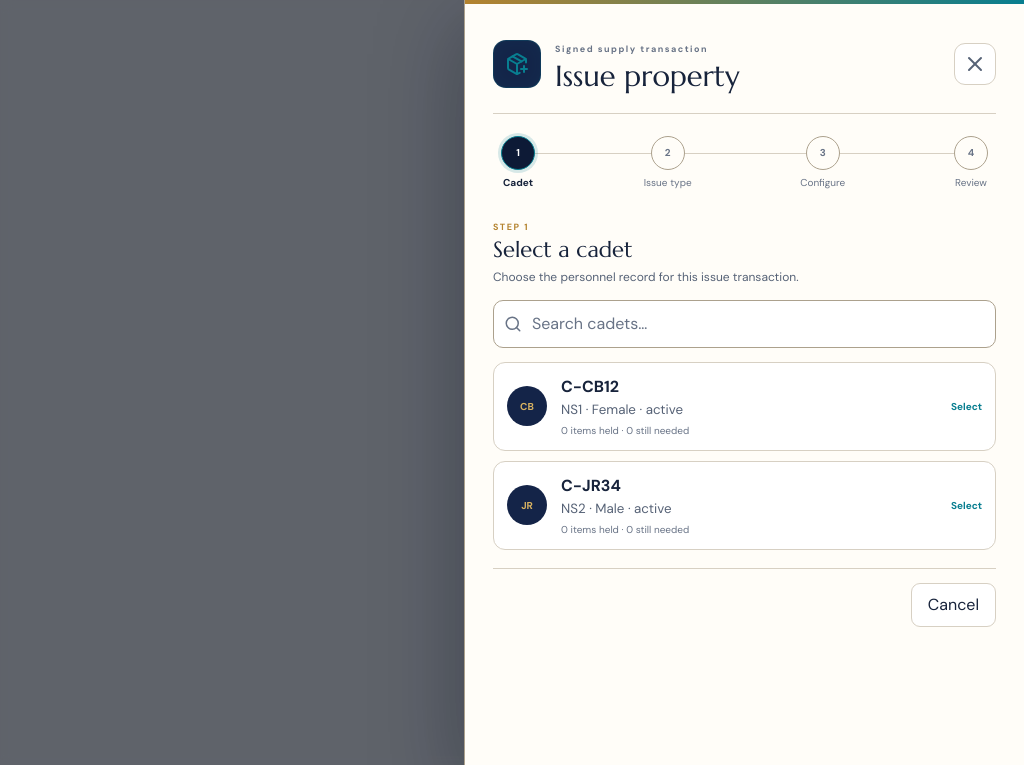
it: SupplyWorkflow with cadet IDs and catalog bundle lines › searches cadets by name or code but shows only the cadet ID
Expected: the button "C-CB12" is shown, 493,362 -> 996,451
Type "bennett" into the field labelled "Search cadets".
click(758, 324); type("bennett")  # box 530,301 -> 985,346
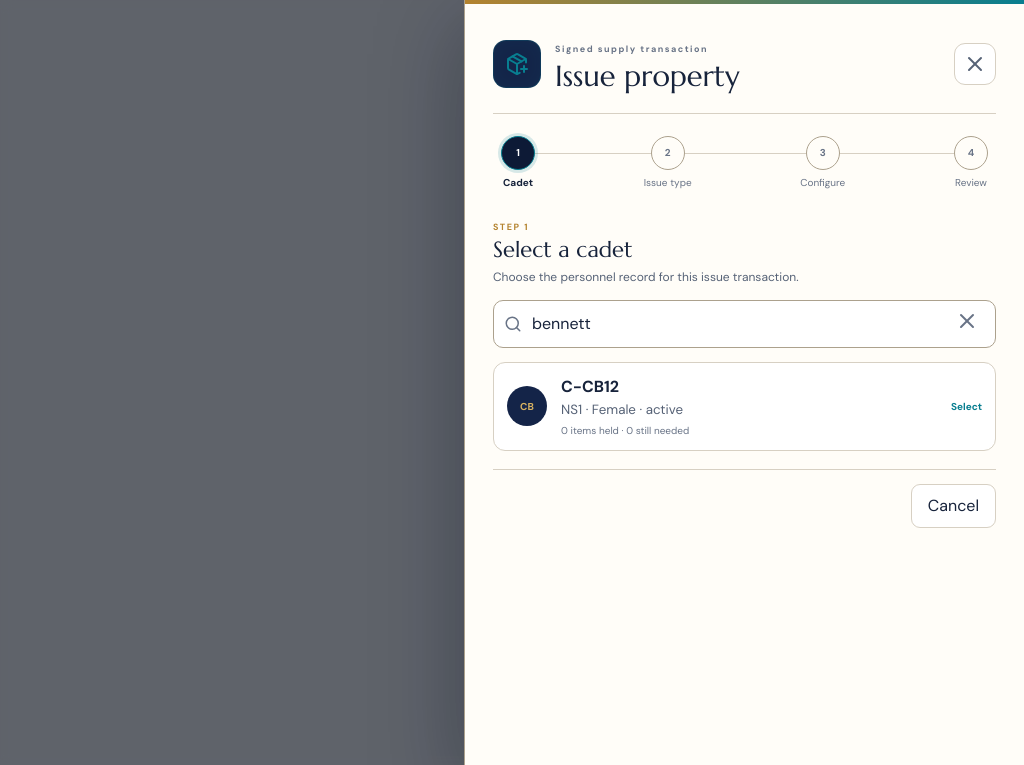
Result: the button "C-JR34" is gone
Click the button "C-CB12".
click(527, 406)  # box 493,362 -> 996,451
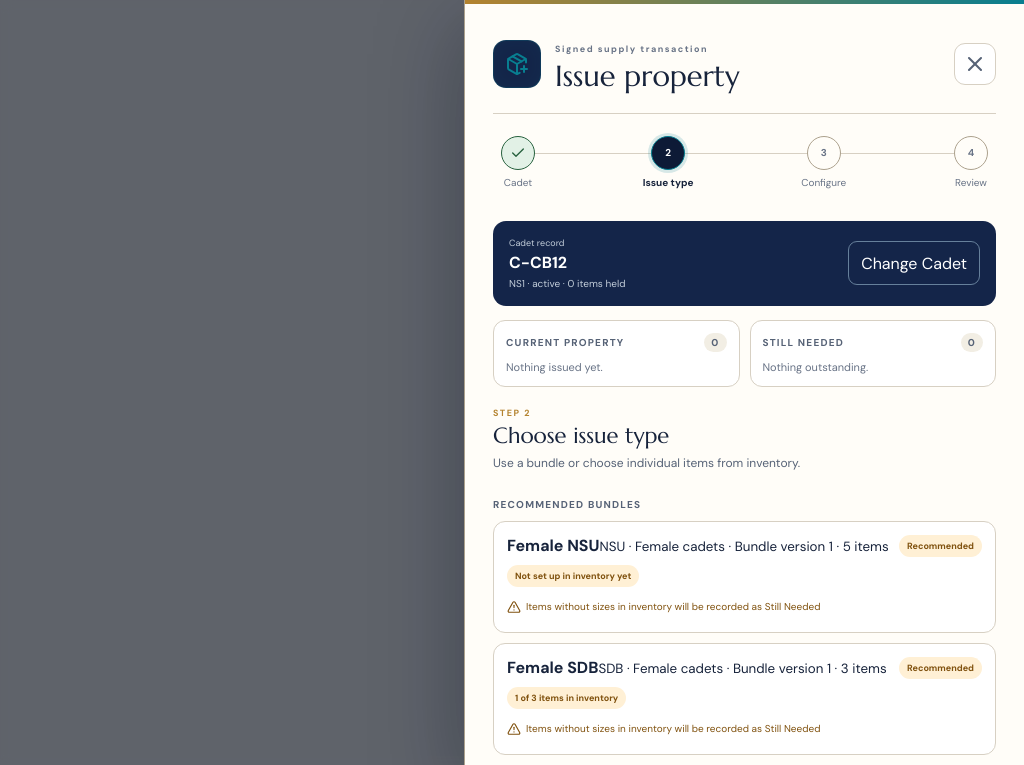
Expected: the text "C-CB12" is shown, 509,252 -> 567,273
Click the button "Change Cadet".
click(914, 263)  # box 848,241 -> 980,285
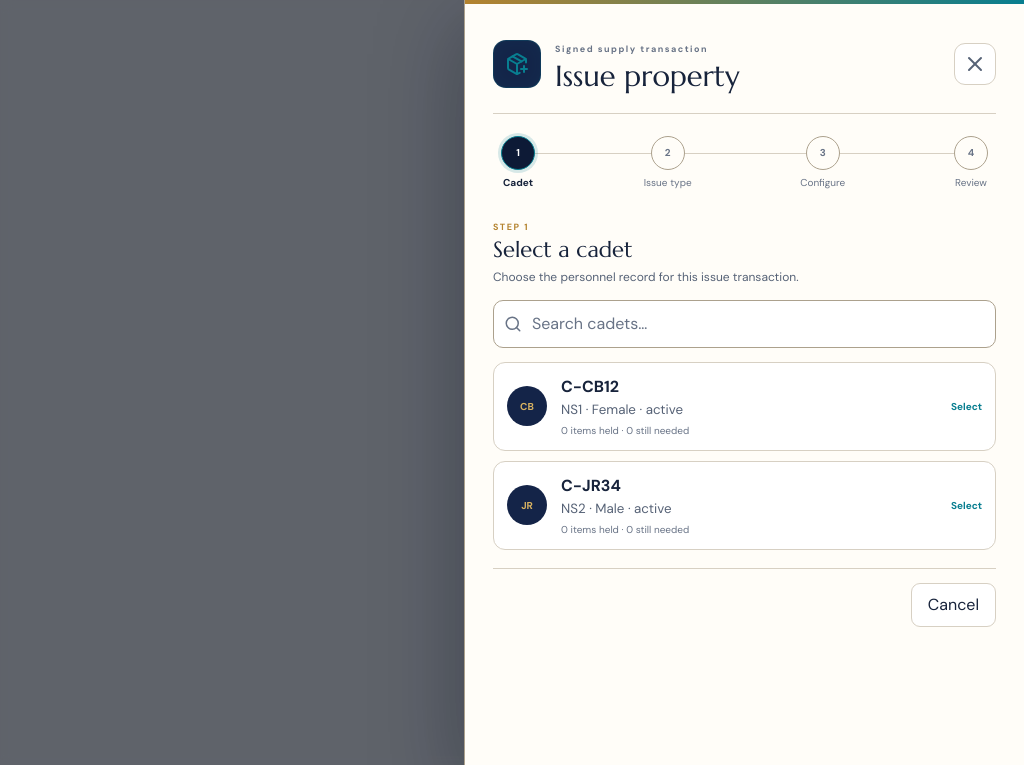
Type "jr34" into the field labelled "Search cadets".
click(758, 324); type("jr34")  # box 530,301 -> 985,346
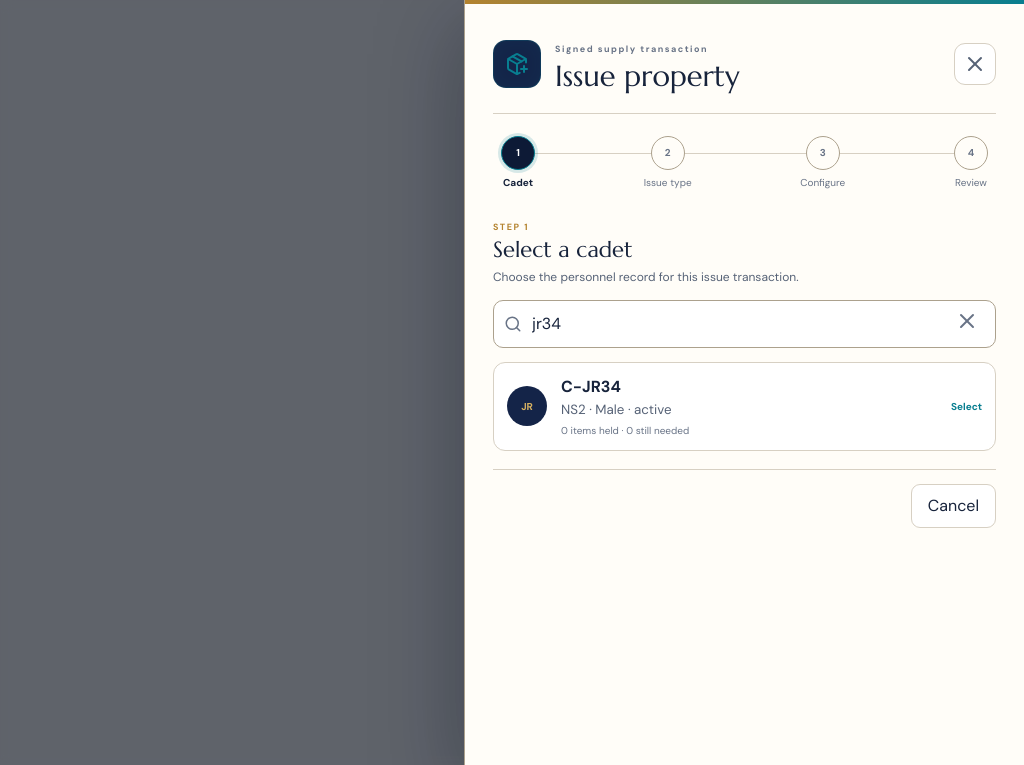
Result: the button "C-JR34" is shown at 493,362 -> 996,451
Result: the button "C-CB12" is gone
